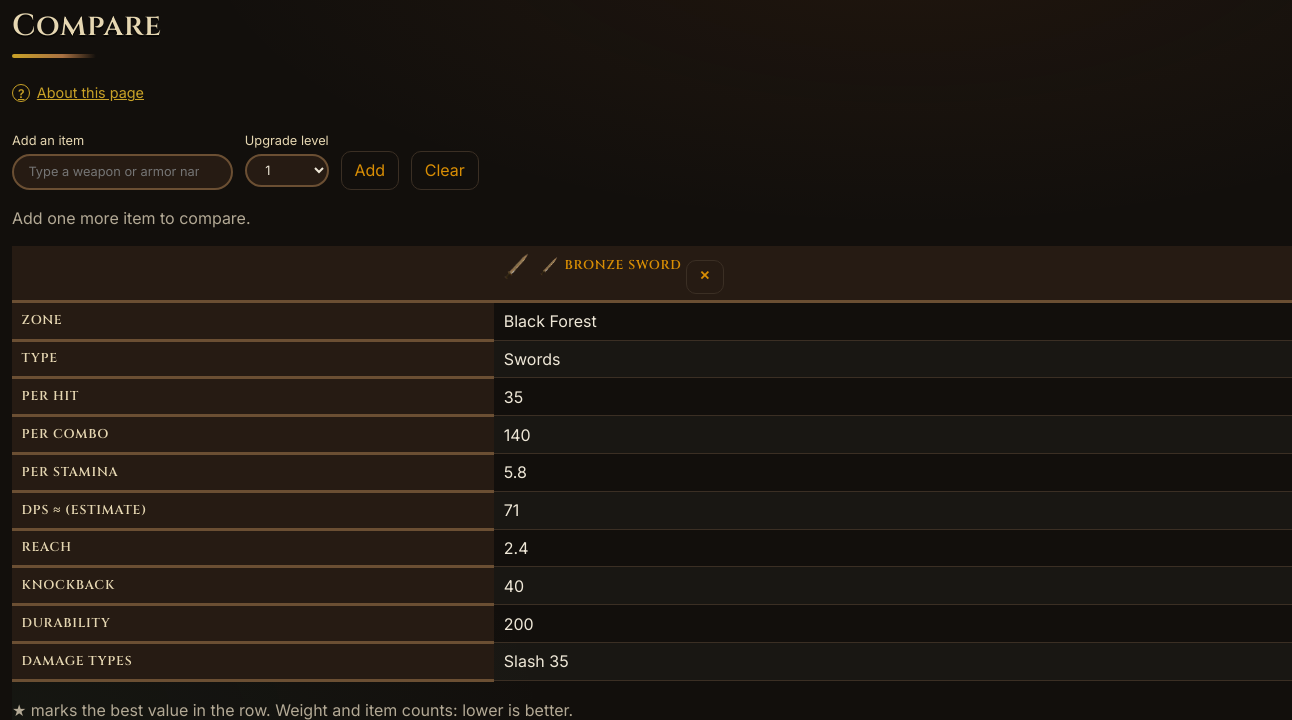
Test: compare page › adds an item by name and removes one
Expected: the text "Add one more item to compare." is shown, [12,208,251,228]
In the field labelled "Add an item": (122, 172) [12,154,233,190], type "Iron Sword"
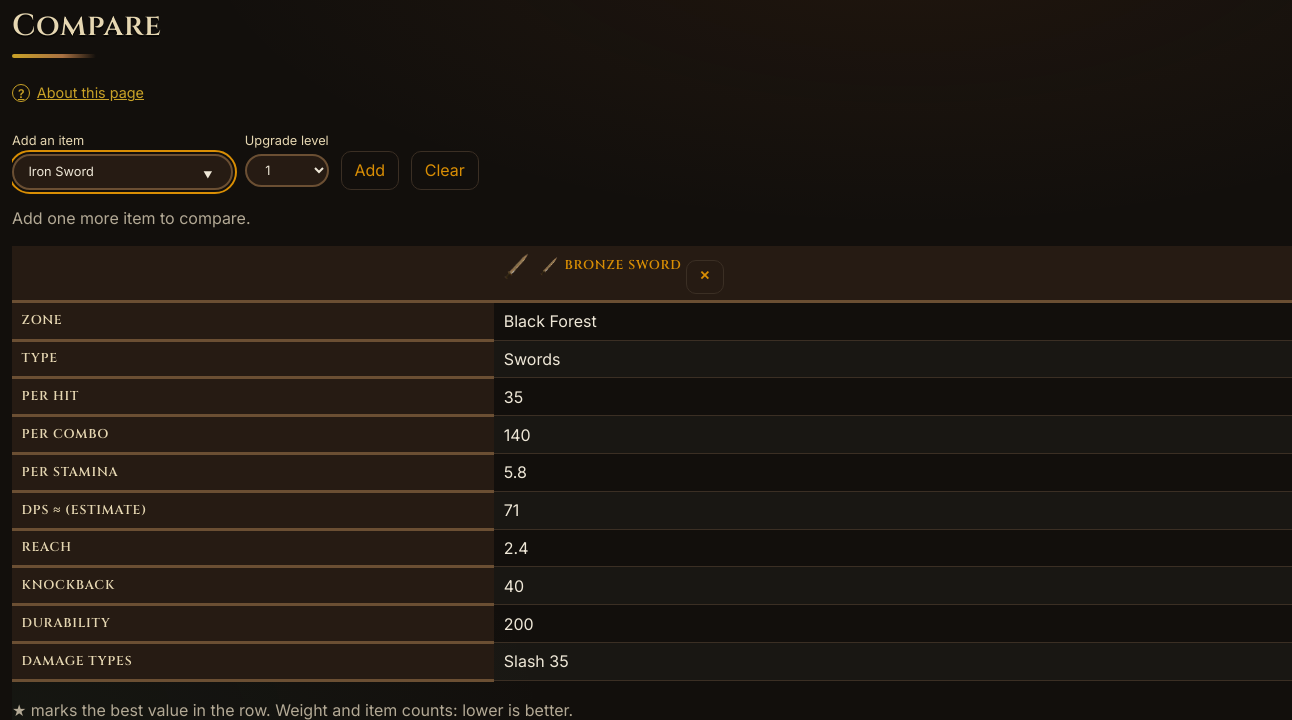
Click the button "Add": (370, 170) [341,151,399,190]
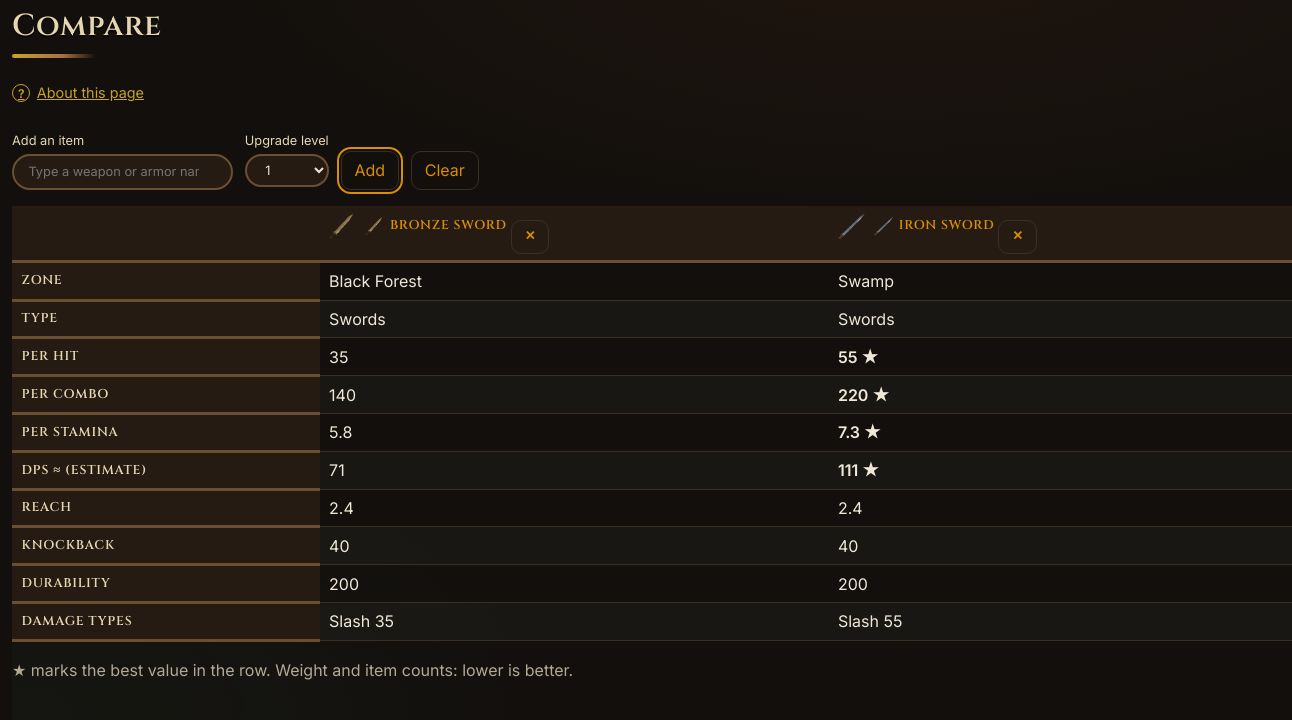
Result: the text "Add one more item to compare." is gone
Click the button named "Remove Bronze Sword": (530, 236) [511,220,549,254]
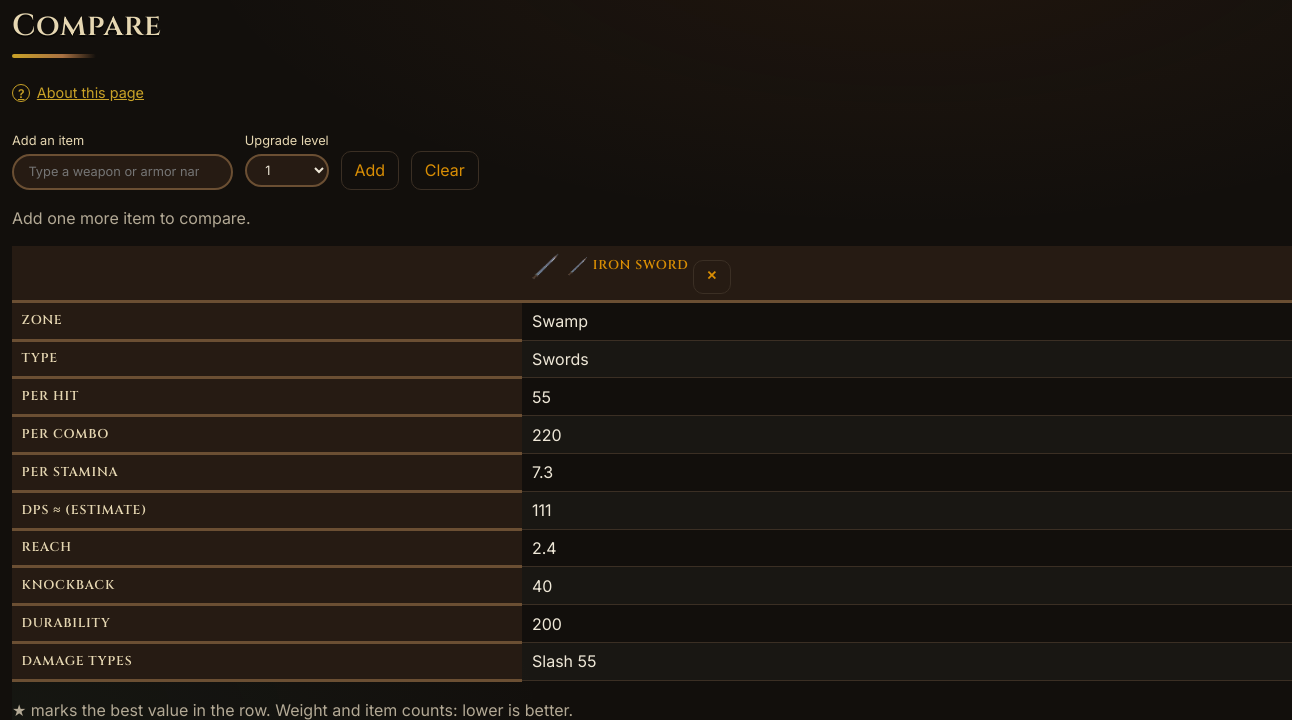
Result: the text "Add one more item to compare." is shown at [12,208,251,228]
